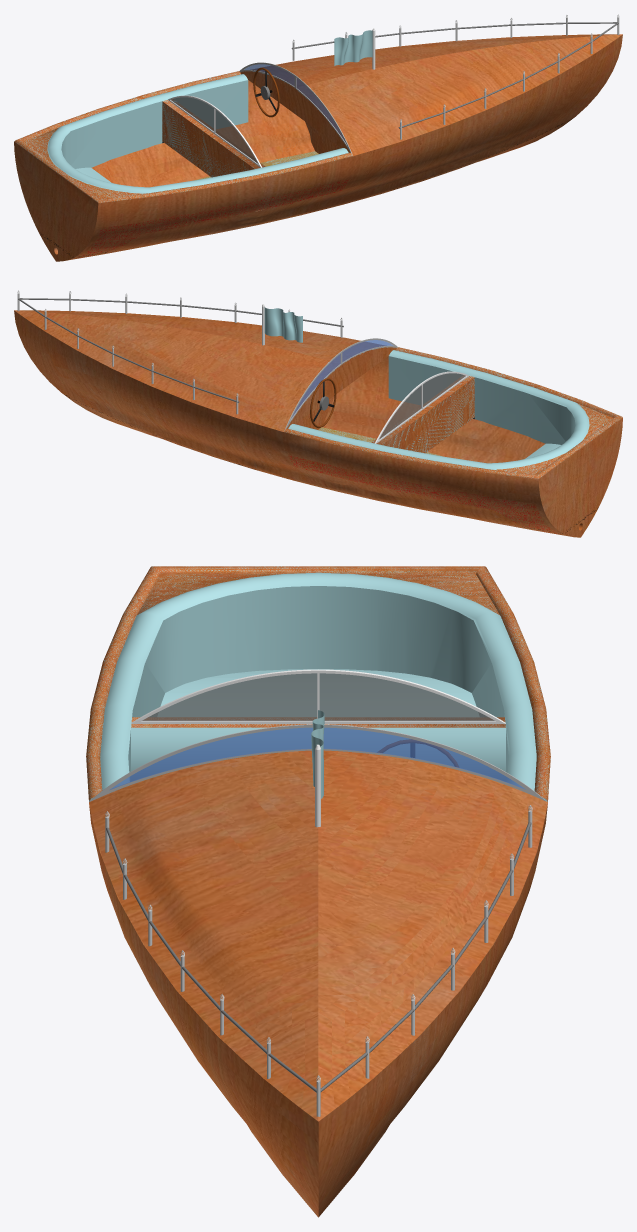
File: lancha.dae
The picture shows the model from 3 angles, top to bottom: view 1: azimuth 30°, elevation 25°; view 2: azimuth 150°, elevation 25°; view 3: azimuth 270°, elevation 25°; orthographic projection. The views are drawn at different scales.
Visible parts, largest first — view 1: group_3 (×8), group_0, group_4 (×3), group_1 (×3), ___Round__ (×2), group_19; view 2: group_3 (×8), group_0, group_4 (×3), group_1 (×3), ___Round__ (×2), group_19; view 3: group_0, group_3 (×5), group_4 (×3), group_1 (×3), ___Round__ (×2).
Boxes of the visible parts, x1,y1,x2,y2 form: group_3 (×8): (14, 34, 622, 261); group_0: (240, 34, 622, 155); group_4 (×3): (168, 95, 261, 167); group_1 (×3): (239, 62, 352, 155); ___Round__ (×2): (291, 22, 618, 128); group_19: (334, 30, 372, 65); group_3 (×8): (14, 310, 622, 537); group_0: (14, 310, 396, 431); group_4 (×3): (375, 371, 468, 443); group_1 (×3): (284, 338, 397, 430); ___Round__ (×2): (18, 298, 343, 402); group_19: (264, 307, 302, 342); group_0: (89, 750, 547, 1121); group_3 (×5): (86, 566, 550, 1216); group_4 (×3): (131, 669, 505, 723); group_1 (×3): (89, 724, 546, 801); ___Round__ (×2): (106, 822, 531, 1092).
Size of the model in its own units: 262 by 93.14 by 68.84.
Materials: 16 (3 with a texture image).
